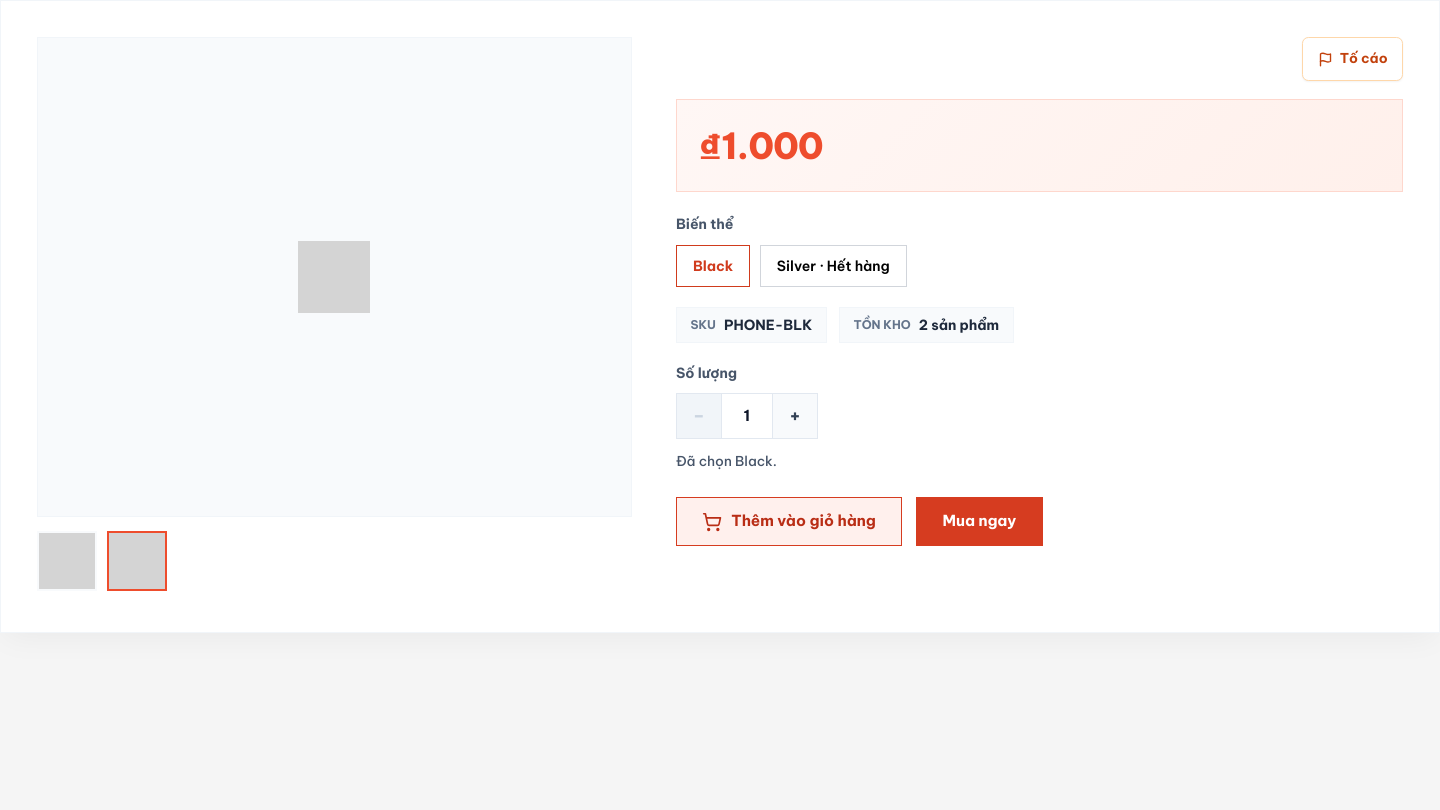
Test: product detail interactions › warns a seller and performs no cart mutation for own-shop purchase actions
Click the button "Thêm vào giỏ hàng" at (789, 522), box [676,497,902,546]
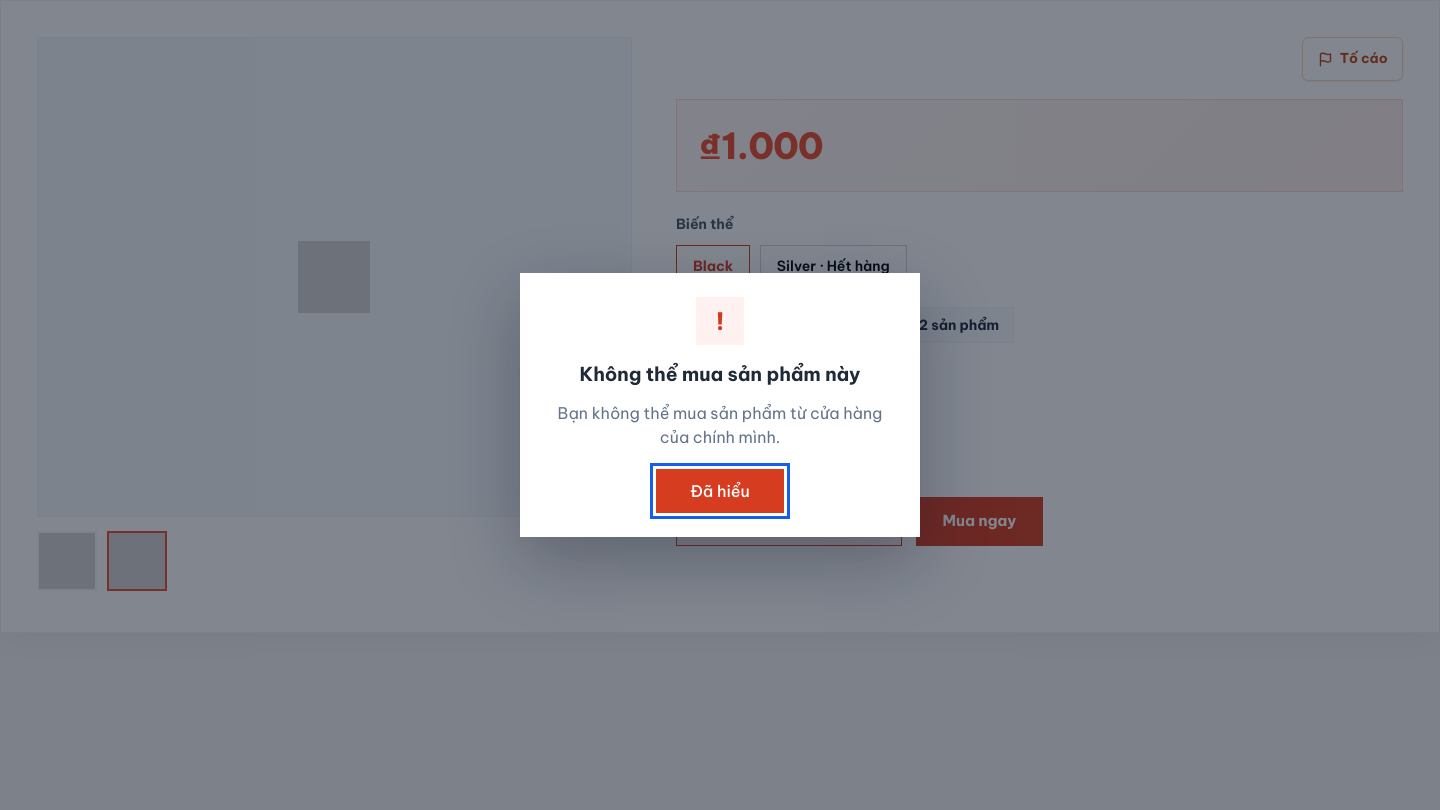
Result: the dialog "Không thể mua sản phẩm này" shows "Bạn không thể mua sản phẩm từ cửa hàng của chính mình." at [558,403,882,447]
Click the button "Đã hiểu" at (720, 491), box [656,469,784,513]
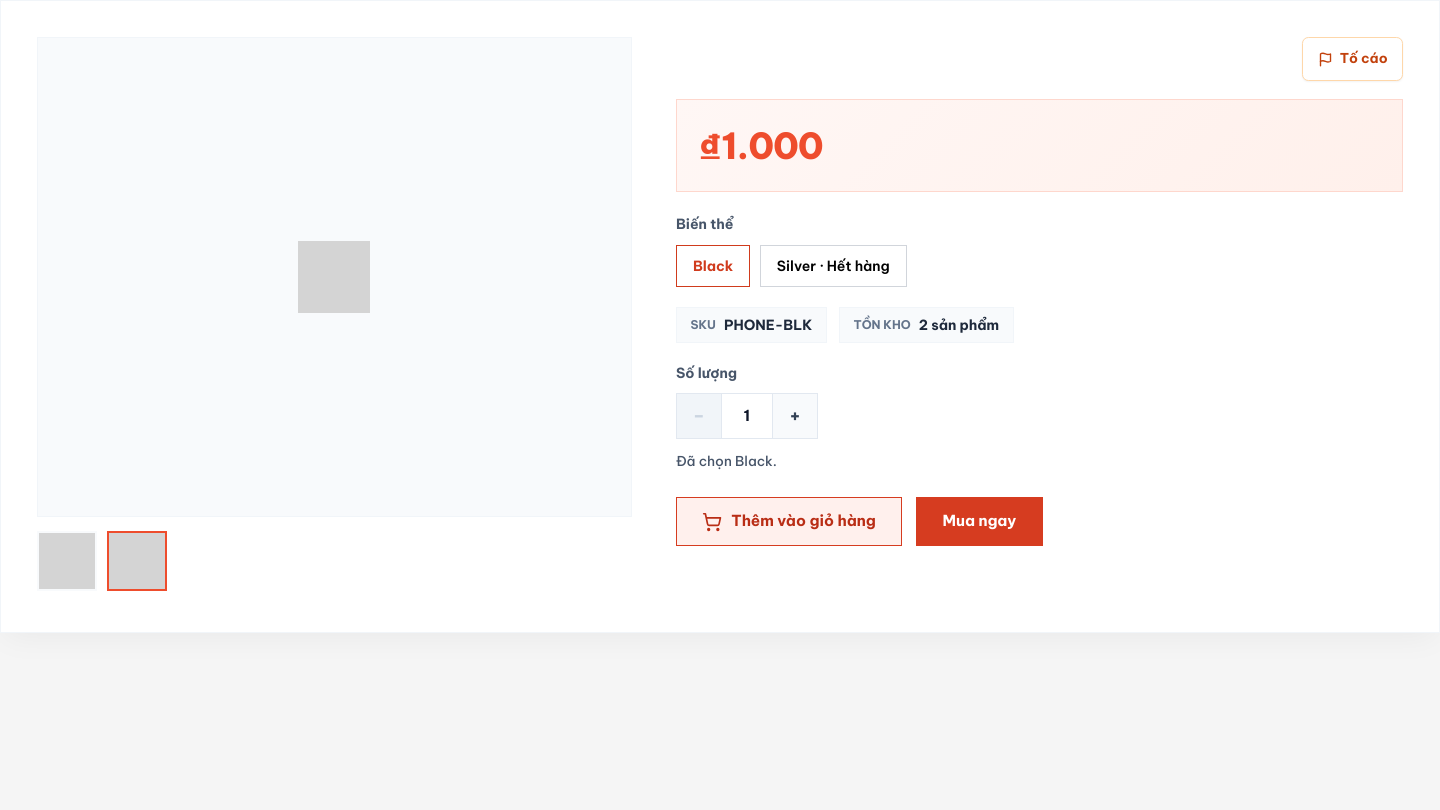
Result: the dialog is gone
Click the button "Mua ngay" at (979, 522), box [916,497,1043,546]
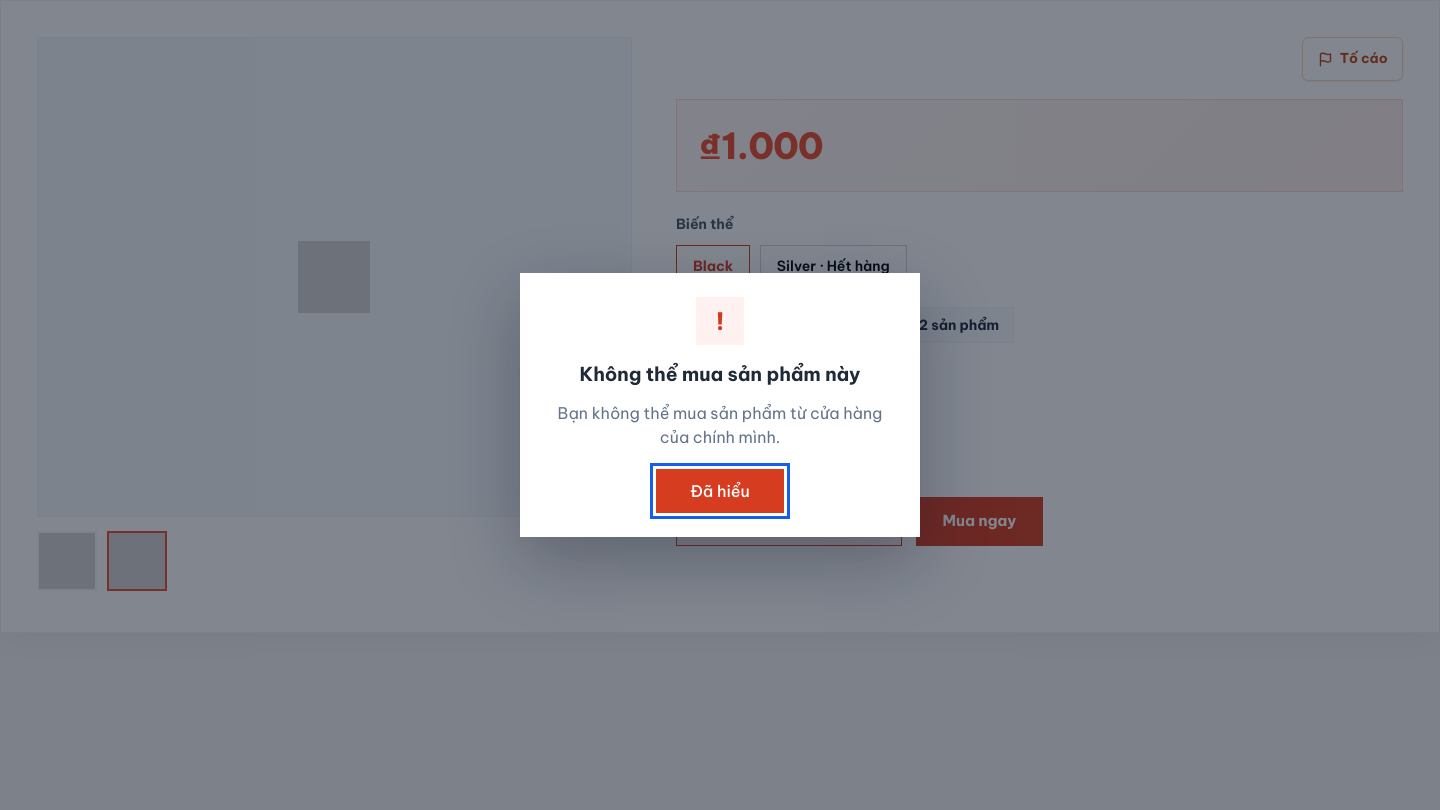
Result: the dialog is shown at [520,273,920,537]
